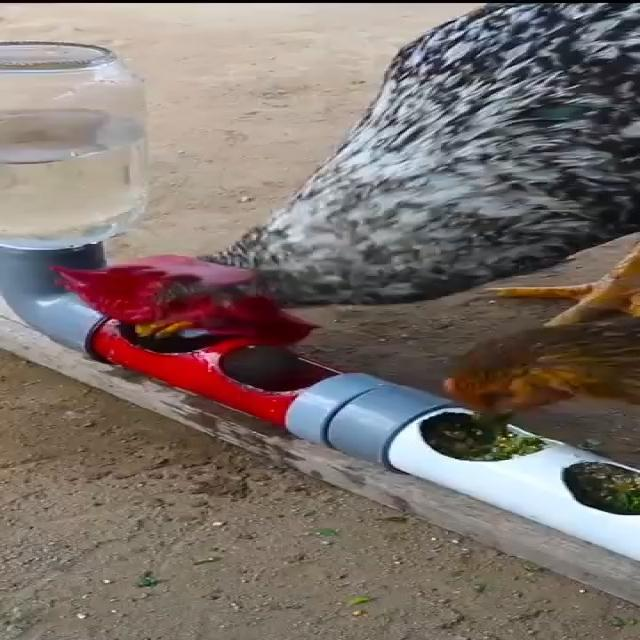feeding: (64, 0, 640, 338)
